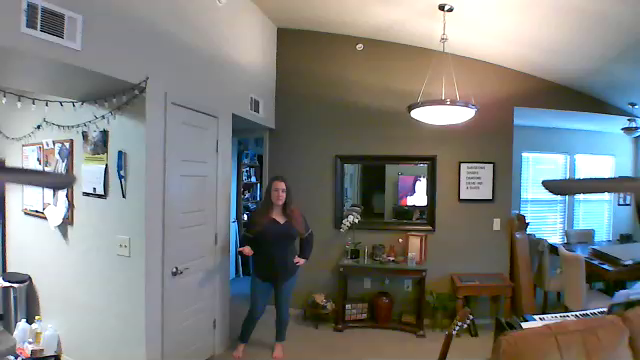land: (235, 243, 257, 259)
